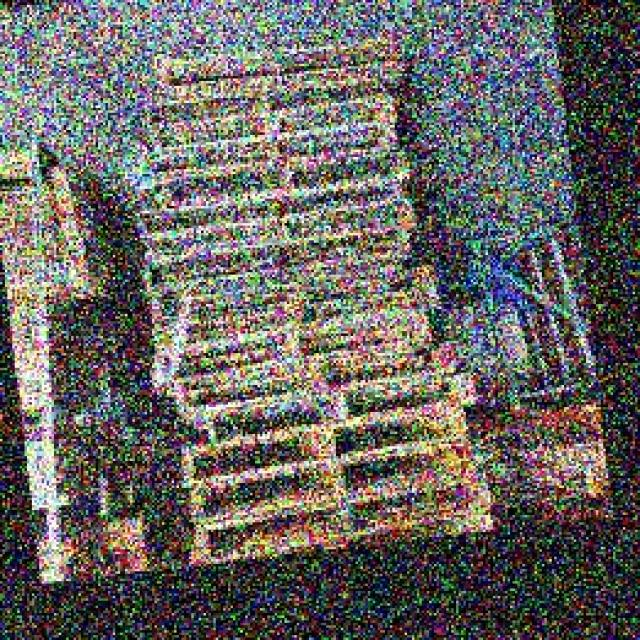non-igps: (146, 251, 452, 363), (176, 434, 486, 541), (181, 475, 506, 576), (166, 331, 433, 443), (141, 296, 439, 396), (175, 364, 484, 456), (176, 398, 471, 492), (135, 194, 425, 276), (125, 138, 421, 215), (137, 219, 416, 300), (130, 169, 410, 247), (139, 78, 411, 157), (137, 113, 410, 185), (148, 52, 424, 123), (146, 23, 418, 94)
